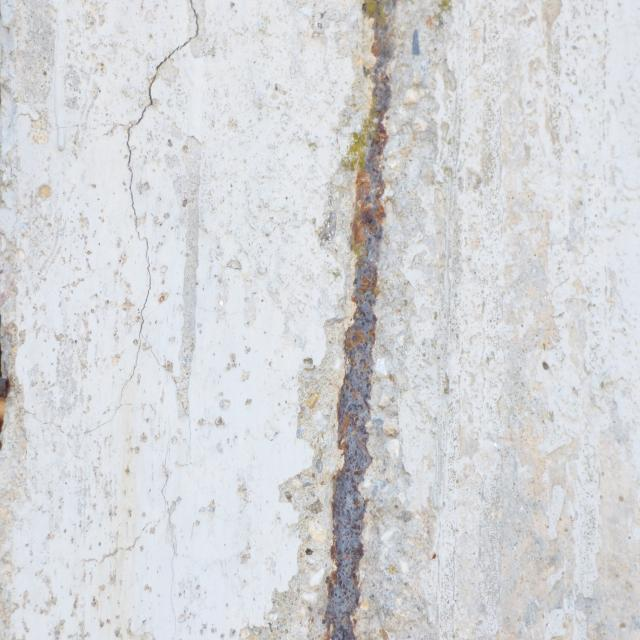corrosion: (320, 3, 416, 640), (0, 349, 13, 450)
